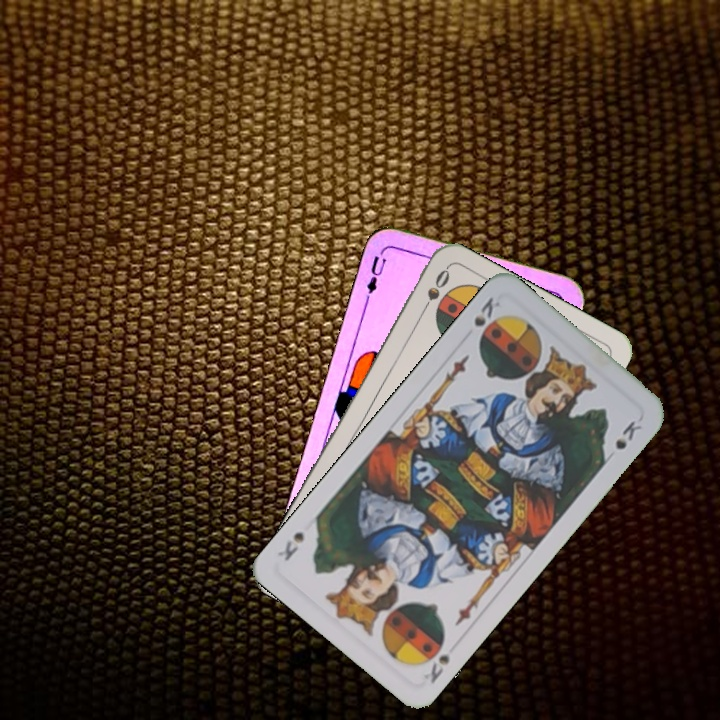EU: (362, 246, 389, 304)
SK: (470, 292, 503, 329), (420, 649, 453, 686)
SO: (416, 265, 453, 319)
